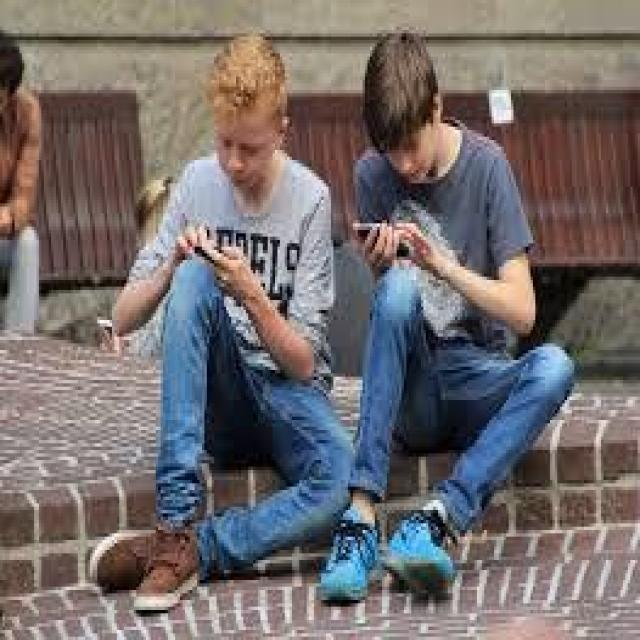person: (309, 3, 572, 637), (132, 27, 346, 580), (3, 20, 34, 403)
